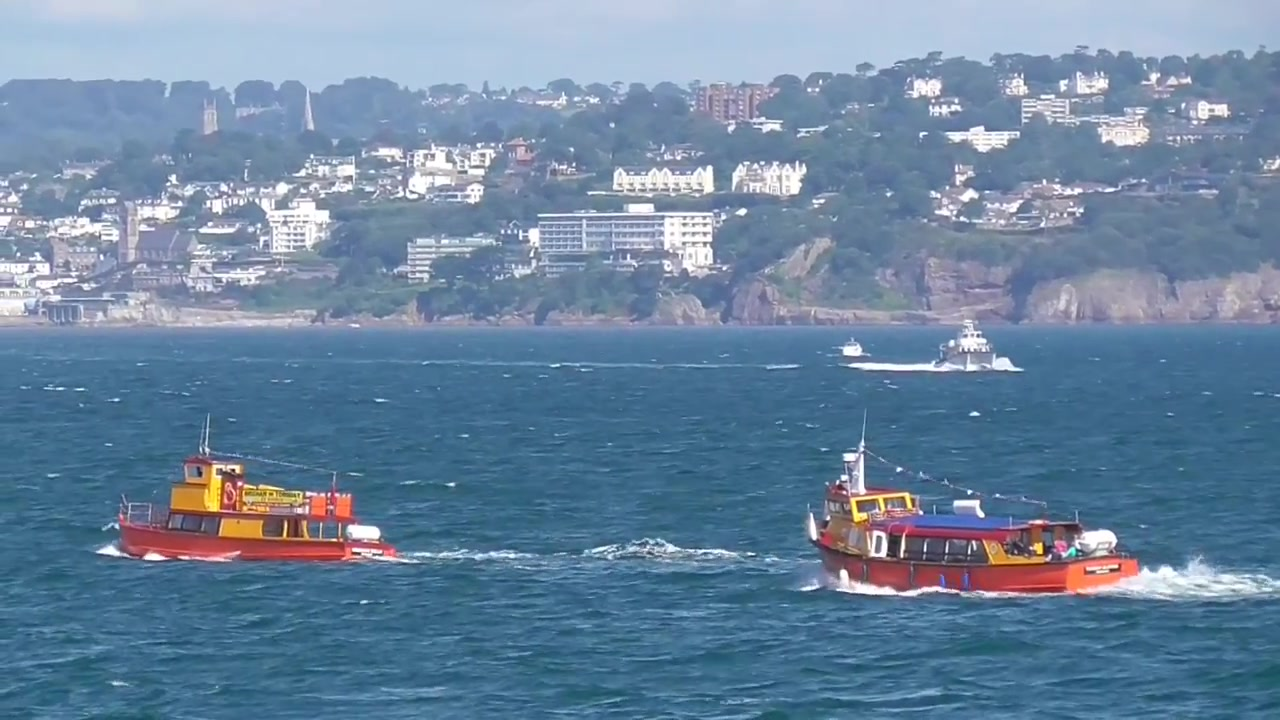CommonShip: (802, 425, 1140, 596), (109, 410, 399, 561), (934, 311, 1000, 373), (837, 332, 871, 359)
